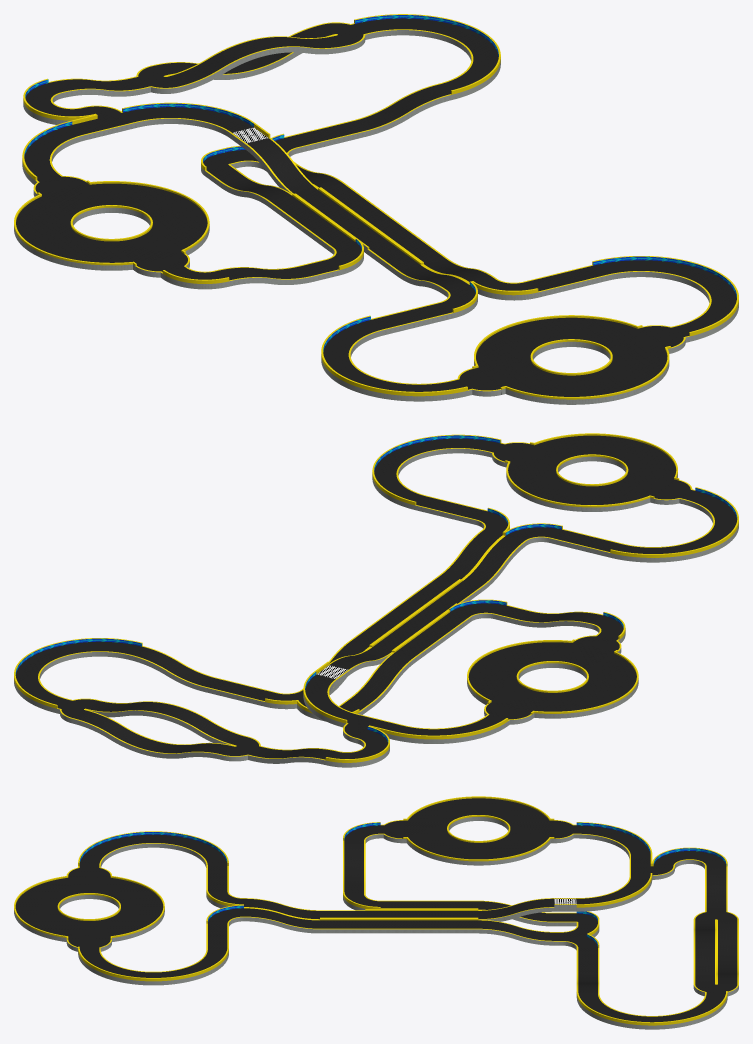
File: track_advanced7.dae
3 views of the same model, one above another, from view 1: azimuth 30°, elevation 25°; view 2: azimuth 150°, elevation 25°; view 3: azimuth 270°, elevation 25° (orthographic). The views are drawn at different scales.
Parts seen in each view (by area): view 1: SketchUp (×3); view 2: SketchUp (×3); view 3: SketchUp (×4).
Boxes of the visible parts, x1,y1,x2,y2 form: SketchUp (×3): [14, 14, 738, 404]; SketchUp (×3): [14, 433, 738, 767]; SketchUp (×4): [14, 796, 738, 1029].
Size of the model in its own units: 26640 by 37839 by 1790.
